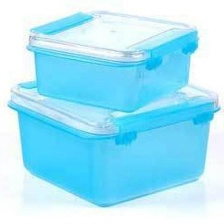plastic_box: (0, 74, 224, 213), (21, 0, 206, 116)
